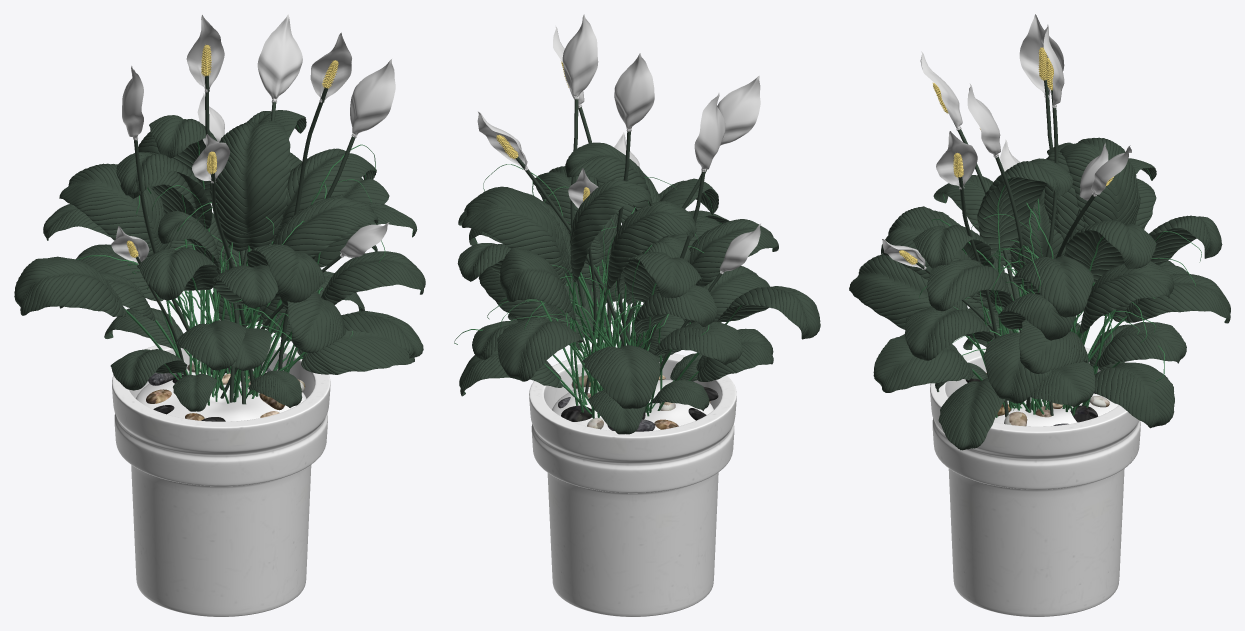
The model's file is Plant.glb.
3 views of the same model, side by side, from view 1: azimuth 30°, elevation 25°; view 2: azimuth 150°, elevation 25°; view 3: azimuth 270°, elevation 25° (orthographic). The views are drawn at different scales.
Visible parts, largest first — view 1: mint0174; view 2: mint0174; view 3: mint0174.
Part boxes in pixels (x1,y1,x2,y2): mint0174: (14,14,425,616); mint0174: (454,14,820,616); mint0174: (849,14,1230,616).
Size of the model in its own units: 0.4061 by 0.6062 by 0.3795.
Materials: 14 (7 with a texture image).
